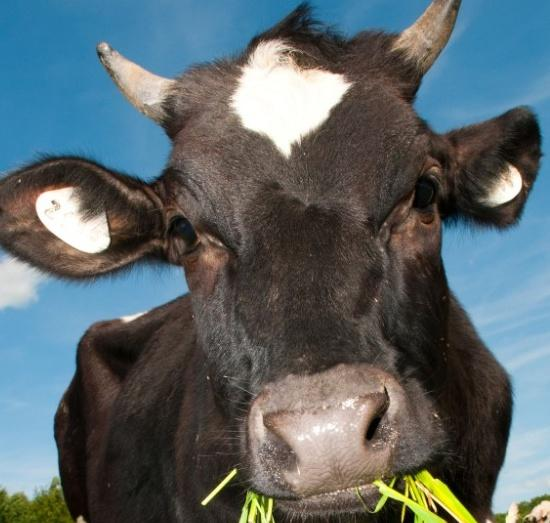muzzles: (234, 364, 451, 517)
